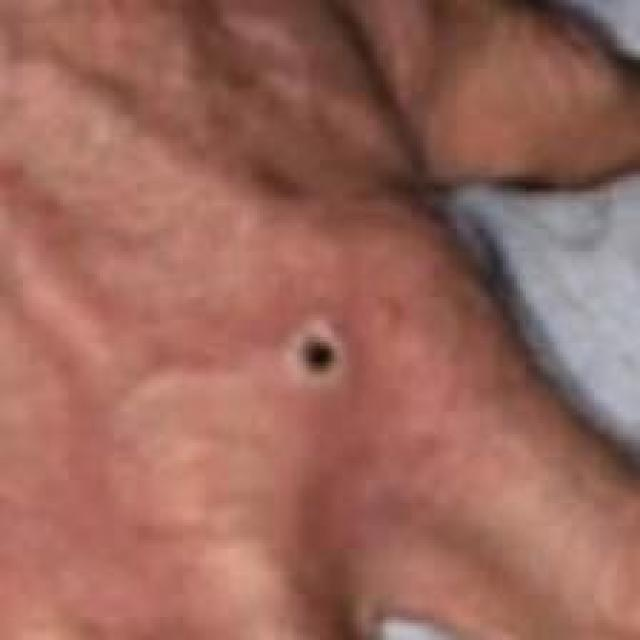monkeypox: (110, 173, 473, 545)
